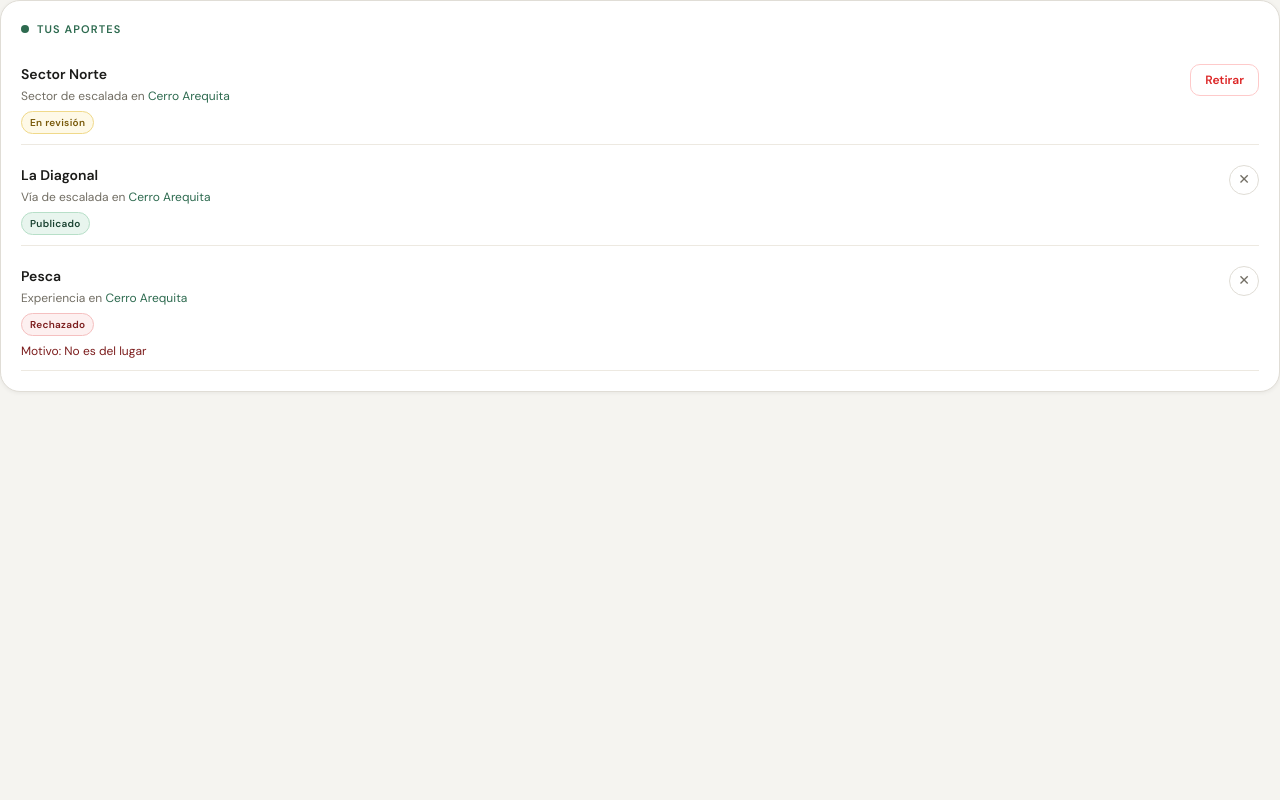
Scenario: MyContributionsCard › retirar un aporte pendiente pide confirmación
Click the button "Retirar".
click(1225, 80)  # box left=1190, top=64, right=1259, bottom=96
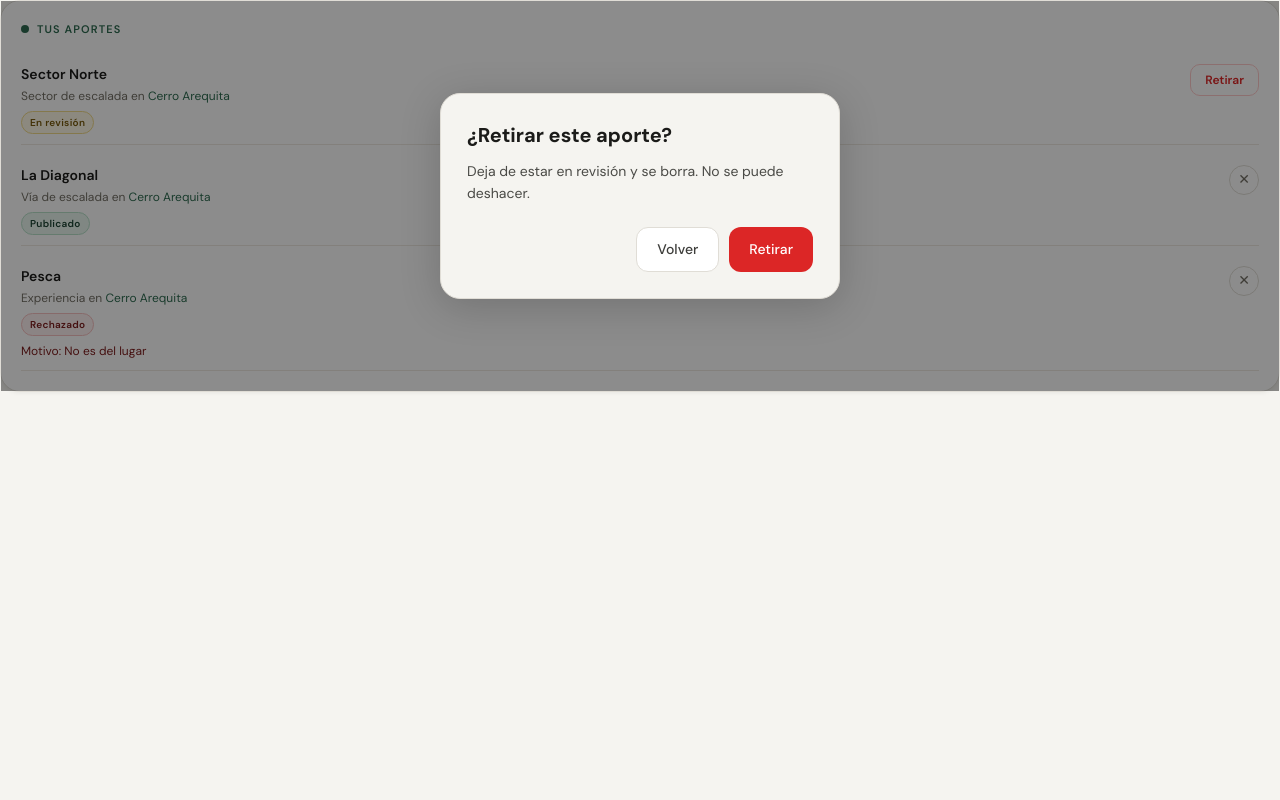
Expected: the heading "¿Retirar este aporte?" is shown, left=467, top=122, right=672, bottom=148
Click the button "Retirar".
click(771, 249)  # box left=729, top=227, right=813, bottom=272
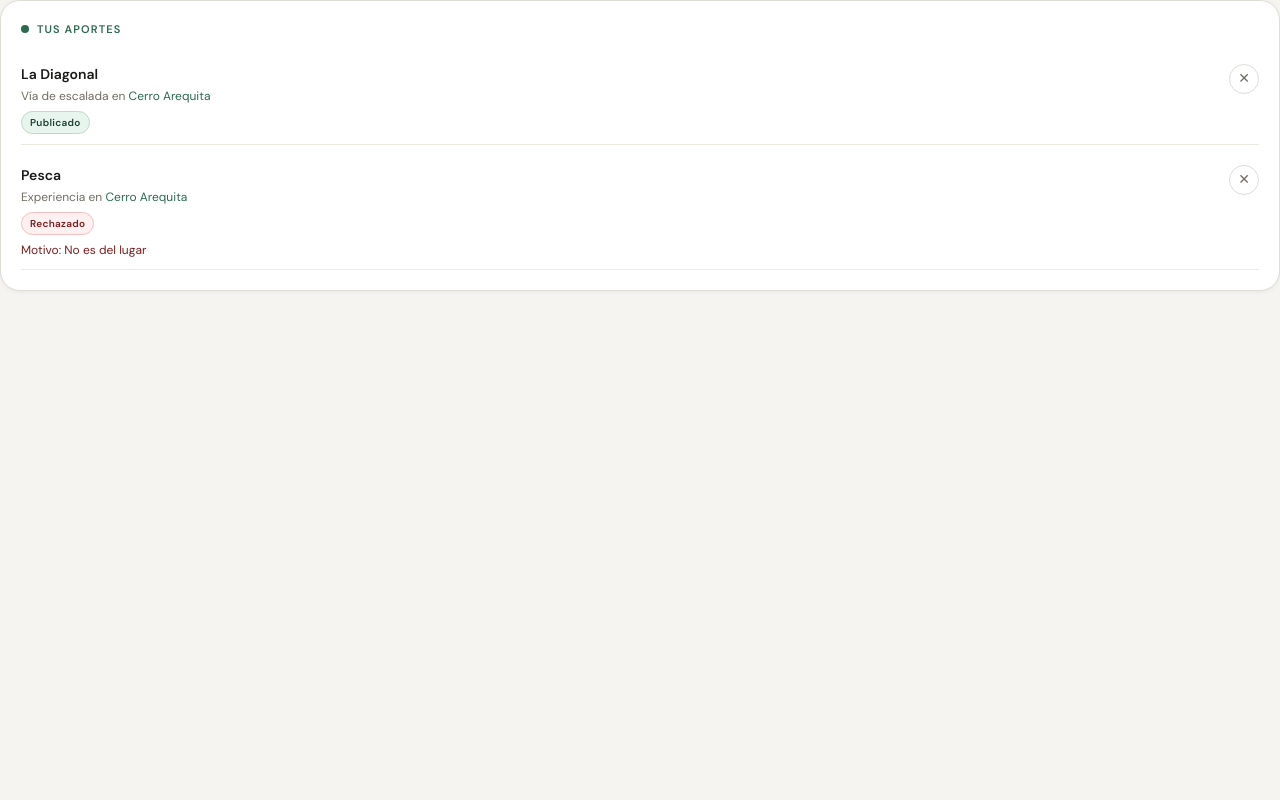
Expected: the text "Sector Norte" is gone
